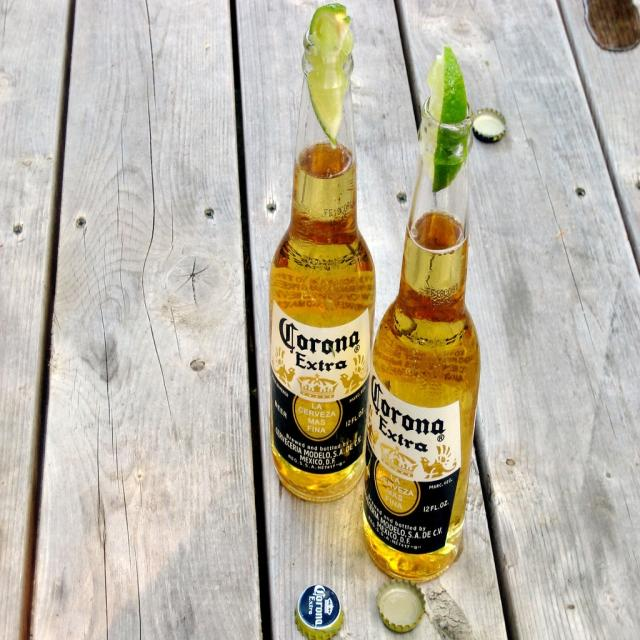corona: (365, 369, 463, 556), (271, 300, 372, 476)
